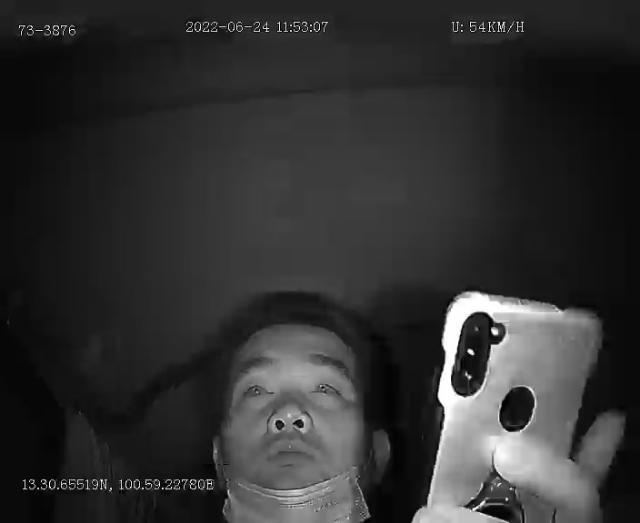PhoneUse: (410, 265, 610, 523)
SafeDriving: (302, 366, 348, 406), (236, 368, 279, 410)
